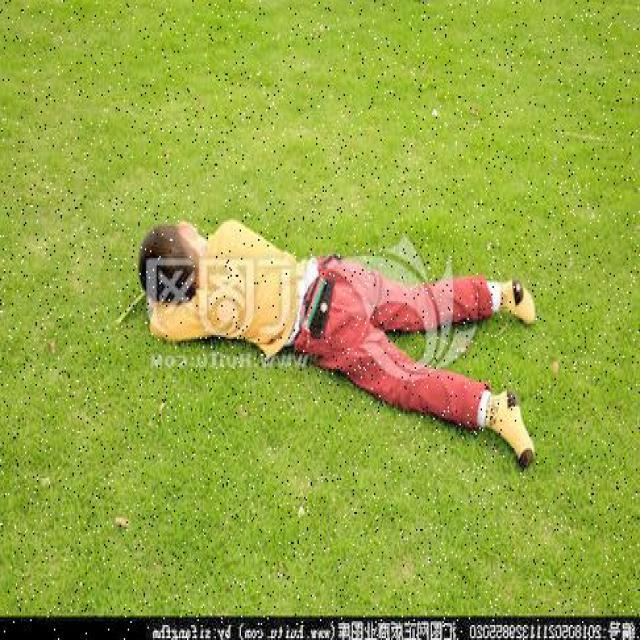fall: (138, 216, 542, 467)
